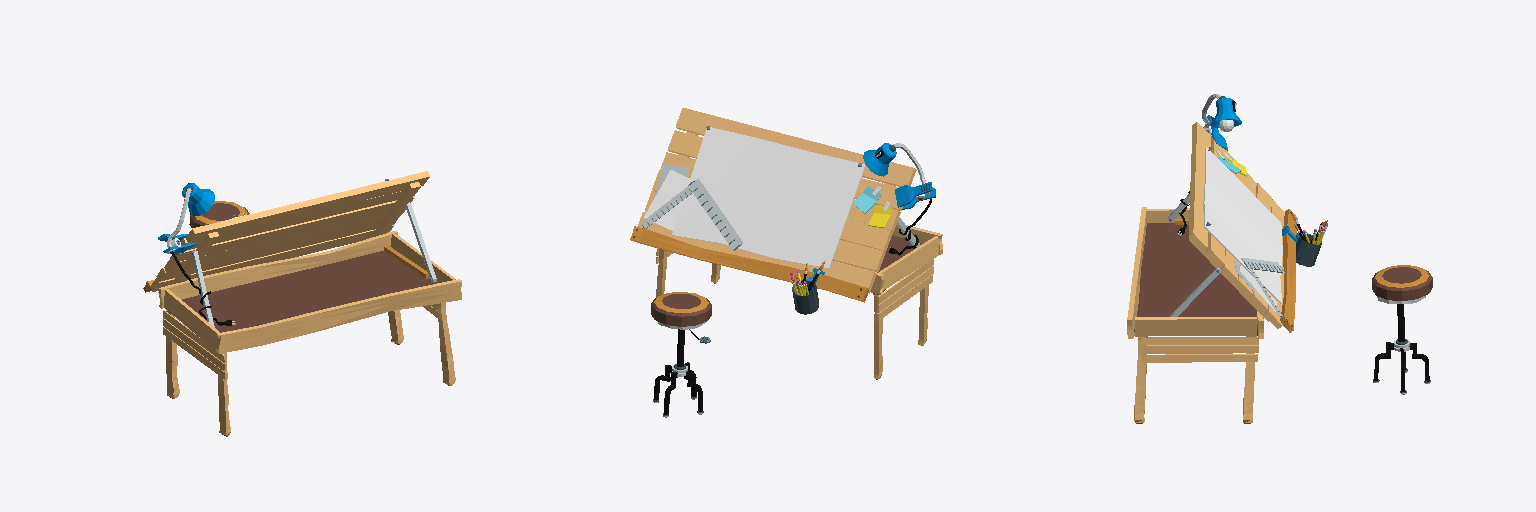
3 views of the same model, side by side, from view 1: azimuth 30°, elevation 25°; view 2: azimuth 150°, elevation 25°; view 3: azimuth 270°, elevation 25° (orthographic).
Visible parts, largest first — view 1: group[number redacted], group[number redacted], group[number redacted], group[number redacted], group[number redacted], group[number redacted], group[number redacted], group[number redacted], group[number redacted], group[number redacted], group[number redacted], group[number redacted]; view 2: group[number redacted], group[number redacted], group[number redacted], group[number redacted], group[number redacted], group[number redacted], group[number redacted], group[number redacted], group[number redacted], group[number redacted]; view 3: group[number redacted], group[number redacted], group[number redacted], group[number redacted], group[number redacted], group[number redacted], group[number redacted], group[number redacted], group[number redacted], group[number redacted], group[number redacted], group[number redacted] (+2 smaller).
Boxes of the visible parts, box(x1,y1,x2,y2) form: group[number redacted]: box(150, 171, 429, 291); group[number redacted]: box(182, 251, 436, 332); group[number redacted]: box(216, 279, 461, 353); group[number redacted]: box(158, 231, 397, 308); group[number redacted]: box(158, 183, 235, 325); group[number redacted]: box(164, 289, 223, 353); group[number redacted]: box(437, 303, 455, 385); group[number redacted]: box(189, 201, 249, 227); group[number redacted]: box(390, 234, 455, 282); group[number redacted]: box(166, 311, 179, 398); group[number redacted]: box(218, 353, 230, 436); group[number redacted]: box(163, 318, 225, 371); group[number redacted]: box(672, 127, 865, 268); group[number redacted]: box(637, 108, 916, 293); group[number redacted]: box(651, 292, 711, 417); group[number redacted]: box(630, 226, 868, 302); group[number redacted]: box(863, 143, 935, 255); group[number redacted]: box(879, 236, 941, 290); group[number redacted]: box(644, 170, 689, 230); group[number redacted]: box(688, 178, 742, 250); group[number redacted]: box(790, 261, 824, 314); group[number redacted]: box(873, 289, 885, 379); group[number redacted]: box(1134, 223, 1257, 332); group[number redacted]: box(1203, 147, 1282, 303); group[number redacted]: box(1189, 122, 1284, 328); group[number redacted]: box(1372, 265, 1432, 394); group[number redacted]: box(1135, 317, 1256, 336); group[number redacted]: box(1280, 209, 1297, 332); group[number redacted]: box(1177, 94, 1241, 235); group[number redacted]: box(1282, 211, 1327, 266); group[number redacted]: box(1127, 207, 1146, 338); group[number redacted]: box(1141, 345, 1258, 353); group[number redacted]: box(1141, 354, 1257, 362); group[number redacted]: box(1141, 337, 1258, 344).
Size of the model in its own units: 5.69 by 4.72 by 5.75.